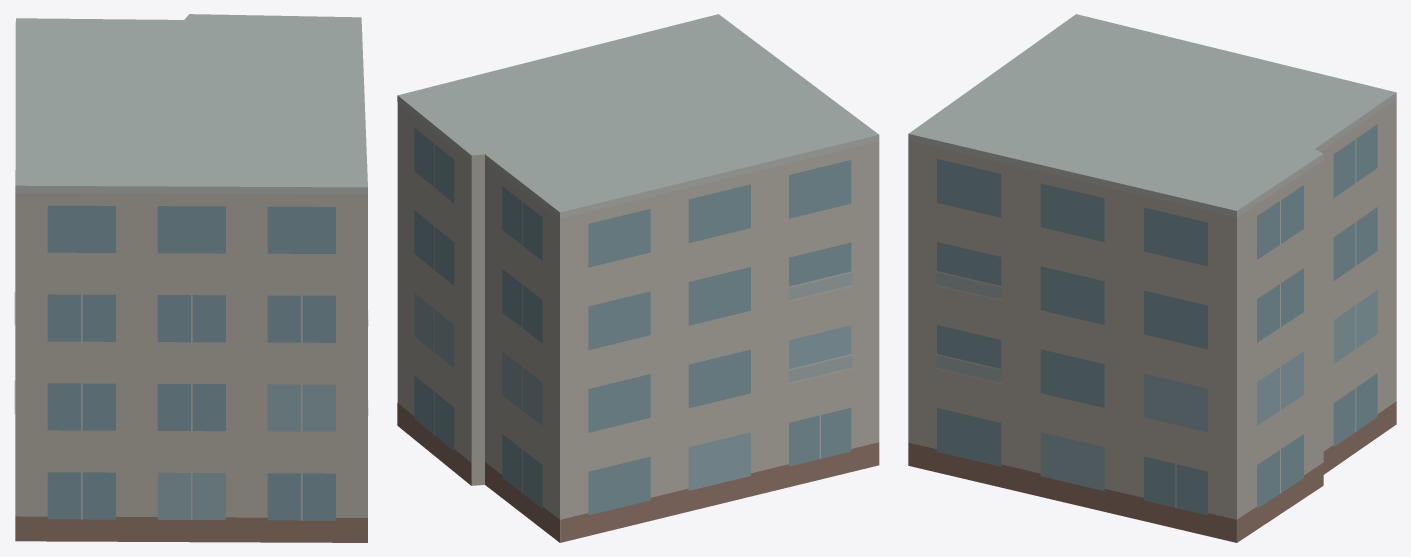
File: survey-upis-32608119.glb
The picture shows the model from 3 angles, left to right: view 1: azimuth 30°, elevation 25°; view 2: azimuth 150°, elevation 25°; view 3: azimuth 270°, elevation 25°; orthographic projection. The views are drawn at different scales.
Parts seen in each view (by area): view 1: survey-upis-32608119.tmp; view 2: survey-upis-32608119.tmp; view 3: survey-upis-32608119.tmp.
Boxes of the visible parts, <box> form: survey-upis-32608119.tmp: <box>14,14,368,542</box>; survey-upis-32608119.tmp: <box>397,14,879,542</box>; survey-upis-32608119.tmp: <box>908,14,1396,542</box>.
Size of the model in its own units: 15.53 by 12.2 by 16.27.
